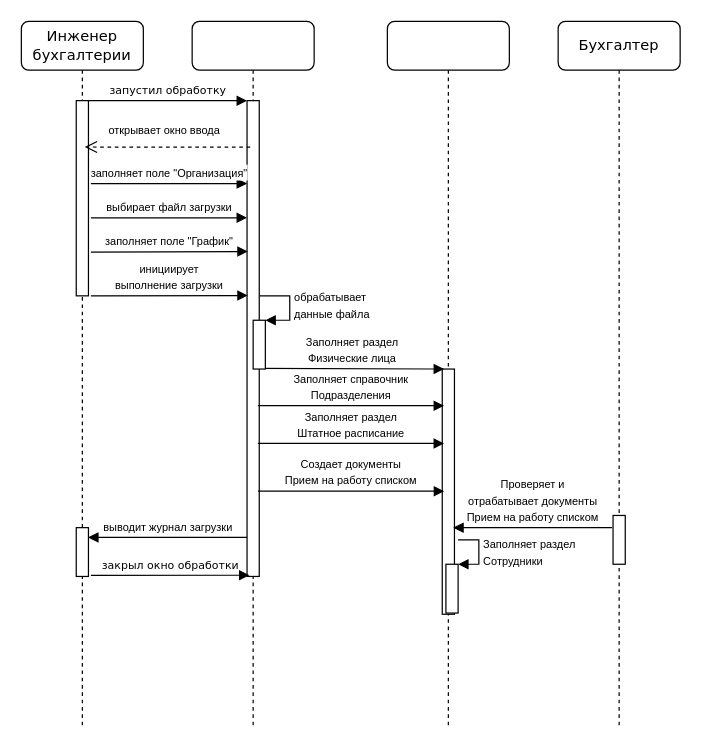
This 702x750 diagram has some shape labels left out. Here are the shapes that lost their labels. From the top down, the box of each, then its label:
(191, 20, 314, 729): Обработка загрузки в 1С
(386, 20, 509, 729): Система 1С
